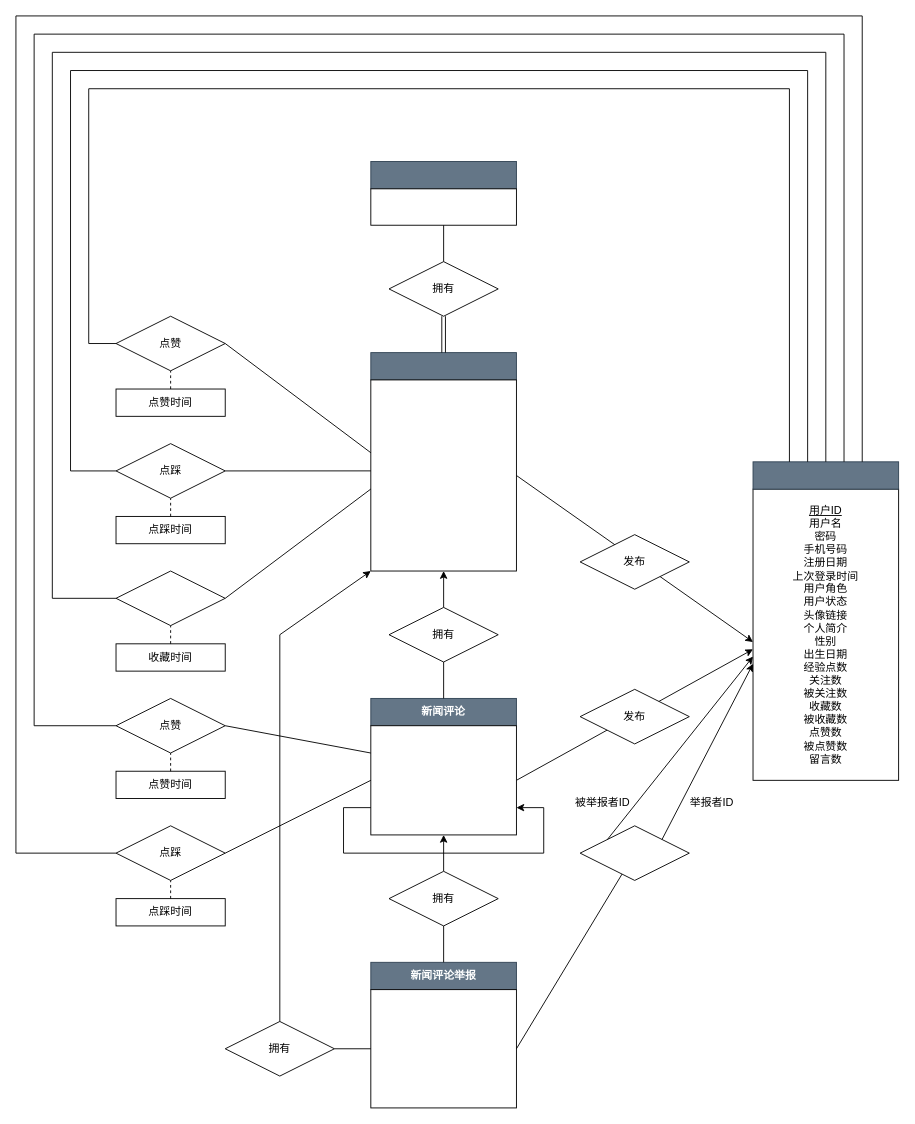
This 915x1124 diagram has some shape labels left out. Here are the shapes that lost their labels. From the top down, the box of each, then its label:
(370, 161, 516, 189): 新闻标签
(370, 188, 516, 225): 新闻标签ID 新闻标签
(370, 352, 516, 380): 新闻
(370, 379, 516, 571): 新闻ID 管理员ID 新闻标签ID 标题 新闻摘要 内容 创建时间 更新时间 封面图片链接 是否置顶 点赞数 点 踩数 收藏数 评论数
(752, 461, 899, 489): 用户
(115, 570, 225, 626): 收藏
(370, 725, 516, 835): 新闻评论ID 新闻ID 用户ID 父评论ID 评论内容 评论时间 点赞数 点踩数
(579, 825, 689, 880): 举报
(370, 989, 516, 1108): 新闻评论举报ID 举报者ID 被举报者ID 被举报评论所属新闻ID 被举报评论ID 举报原因 举报时间 处理状态
